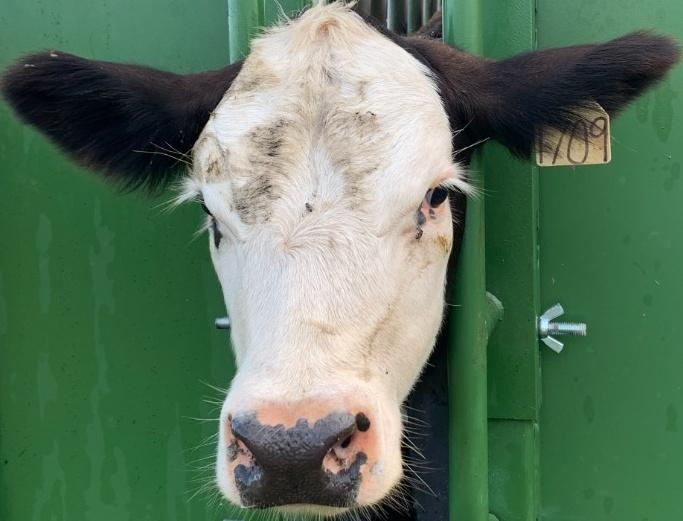muzzles: (195, 385, 421, 518)
